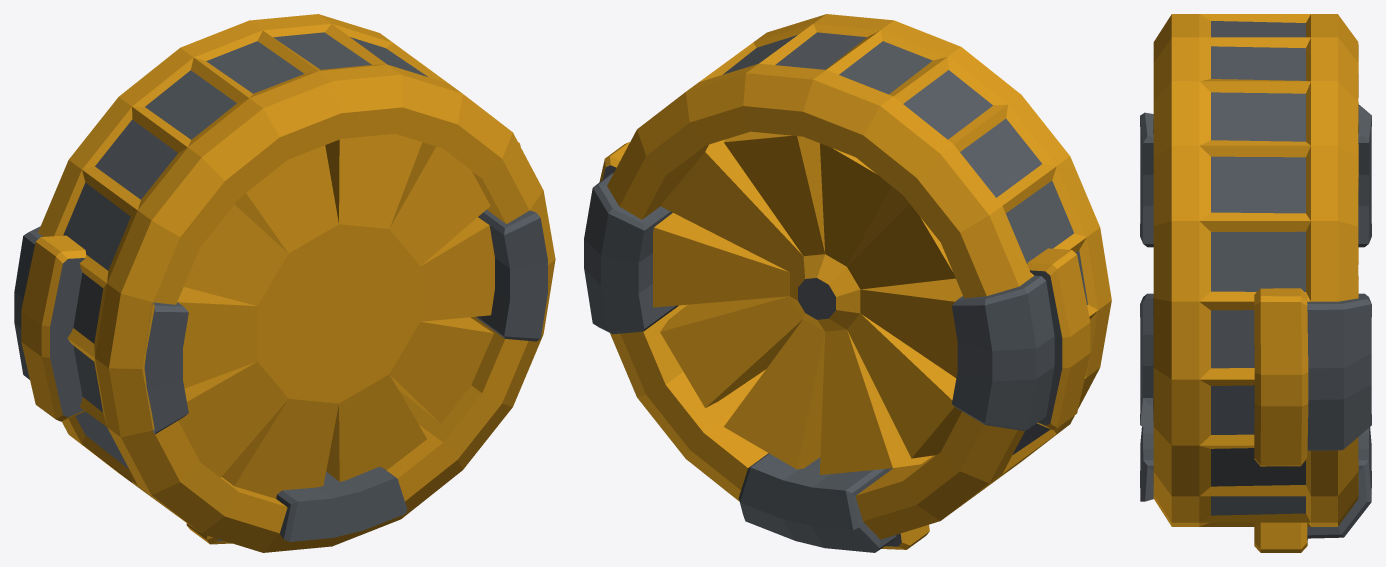
File: Dropship_02_Hover_Blade_Yellow.fbx
The picture shows the model from 3 angles, left to right: view 1: azimuth 30°, elevation 25°; view 2: azimuth 150°, elevation 25°; view 3: azimuth 270°, elevation 25°; orthographic projection. The views are drawn at different scales.
Parts seen in each view (by area): view 1: Dropship_02_Hover_Blade_Yellow; view 2: Dropship_02_Hover_Blade_Yellow; view 3: Dropship_02_Hover_Blade_Yellow.
Part boxes in pixels (x1,y1,x2,y2): Dropship_02_Hover_Blade_Yellow: (14,14,555,552); Dropship_02_Hover_Blade_Yellow: (584,14,1111,552); Dropship_02_Hover_Blade_Yellow: (1140,14,1371,552).
Size of the model in its own units: 483 by 459 by 197.
Materials: 1 (1 with a texture image).
